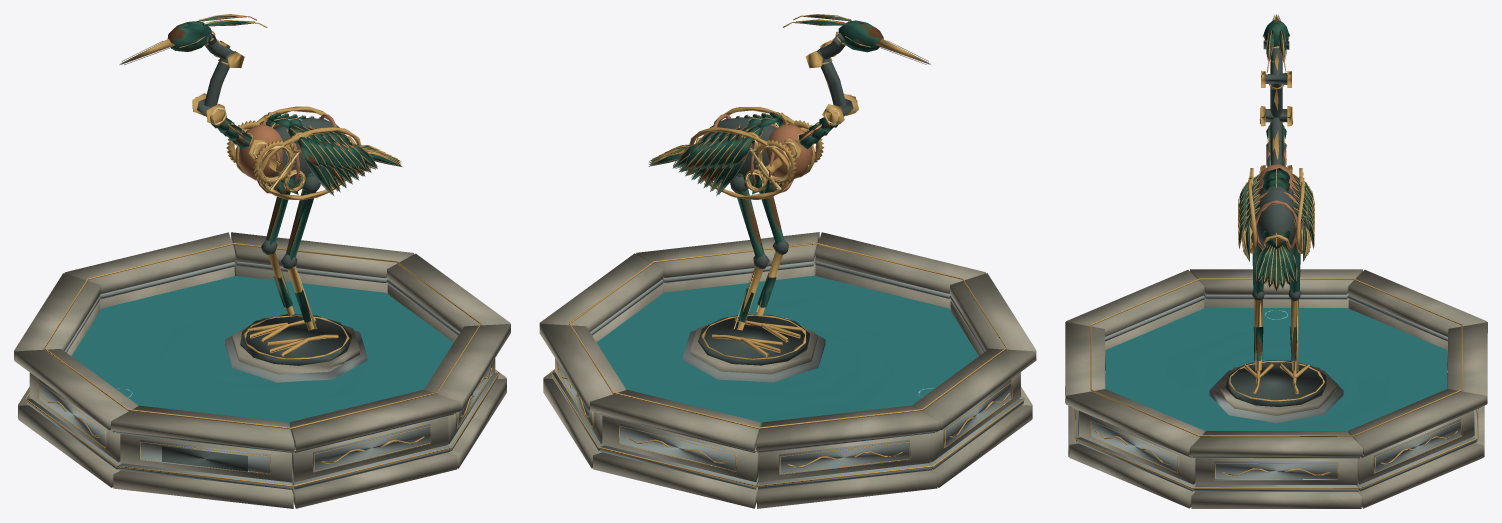
The model's file is bird-fountain.glb.
3 renders of one model, left to right at view 1: azimuth 30°, elevation 25°; view 2: azimuth 150°, elevation 25°; view 3: azimuth 270°, elevation 25°, orthographic. The views are drawn at different scales.
Parts seen in each view (by area): view 1: bird-fountain; view 2: bird-fountain; view 3: bird-fountain.
Part boxes in pixels (<box>): bird-fountain: <box>14,14,510,508</box>; bird-fountain: <box>539,14,1036,508</box>; bird-fountain: <box>1065,14,1487,508</box>.
Bounding box in the file's own units: 1.68 × 1.6 × 1.68.
9 materials, 2 textured.
